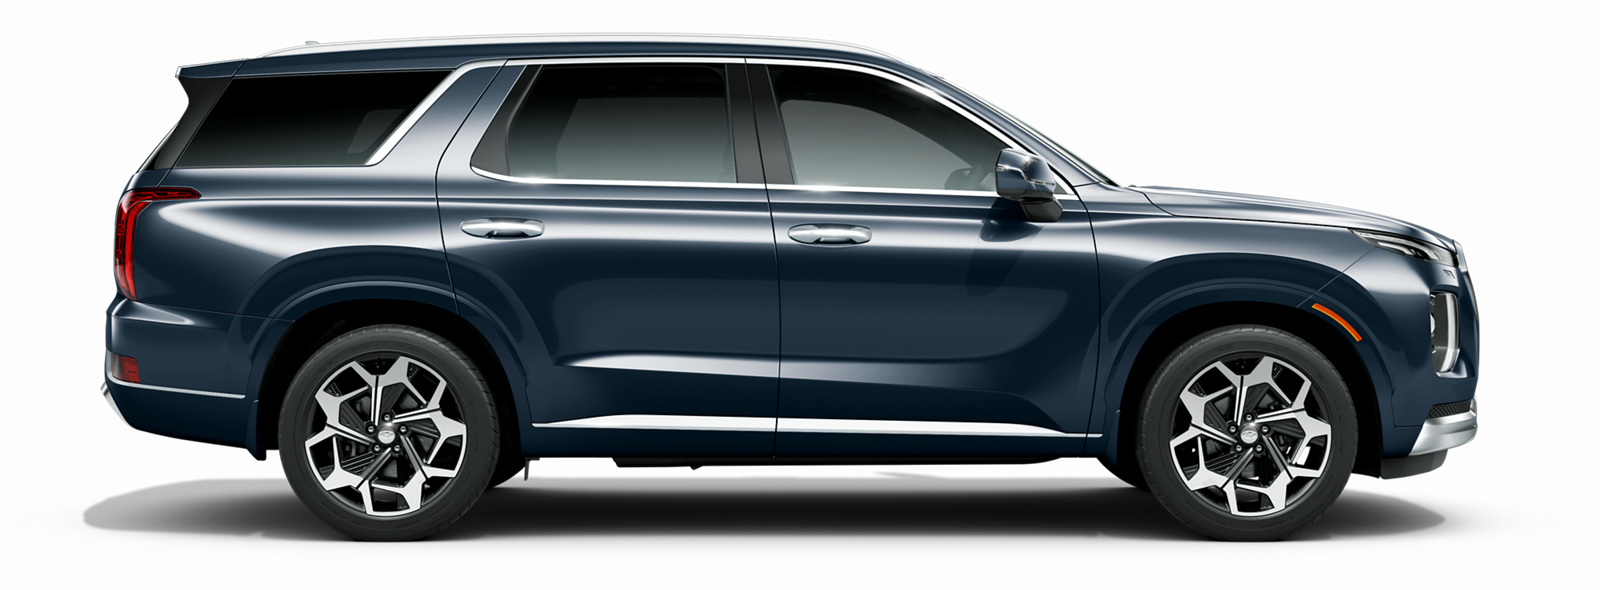nonacc: (94, 31, 1494, 546)
